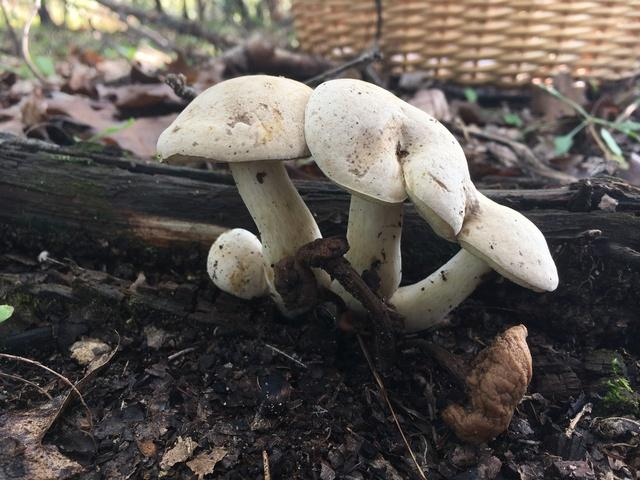edible_mushroom: (302, 76, 559, 335), (155, 72, 330, 317)
